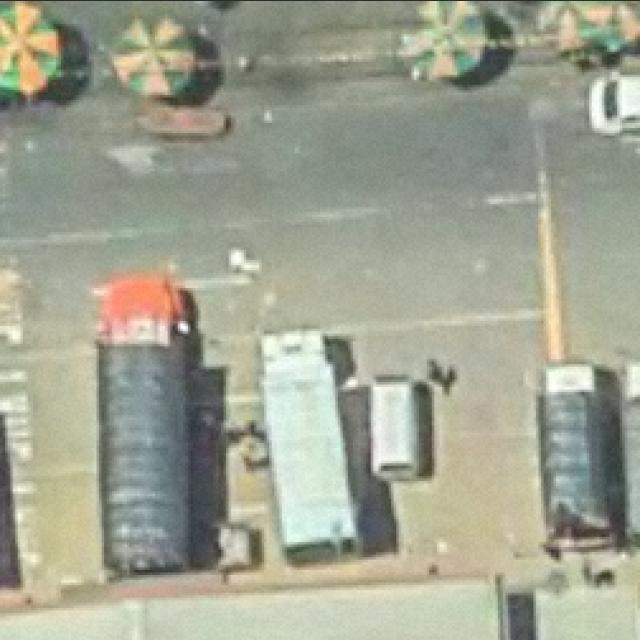vendedor_ambulante: (103, 8, 214, 98), (394, 0, 511, 84), (0, 0, 89, 104), (554, 0, 640, 56)
